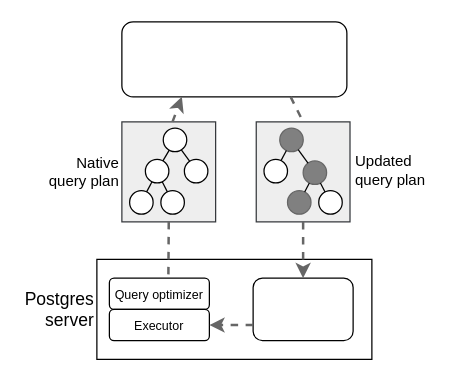
Some shapes in this 449 by 381 pixel diagram are drawn without their labels. The centre of each missing label's shape, as x and y in pixels:
pg_lab extension: (x=302, y=309)
PostBOUND framework: (x=234, y=59)
